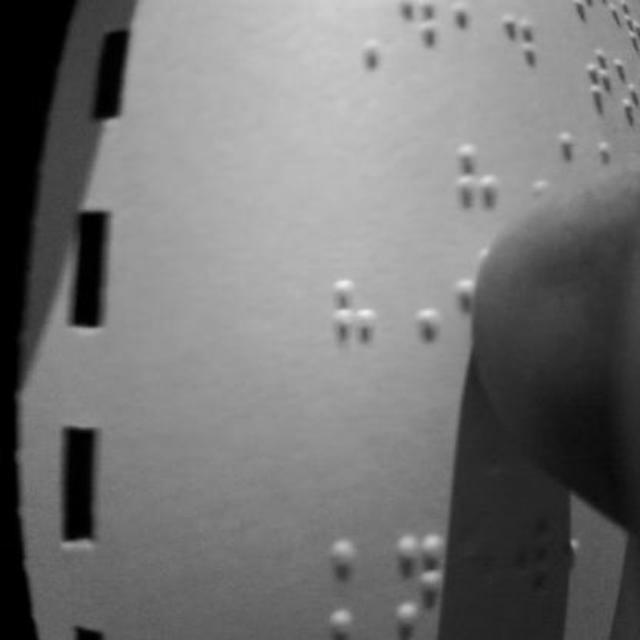braiile: (328, 524, 388, 640), (454, 139, 510, 243), (326, 263, 380, 367)
